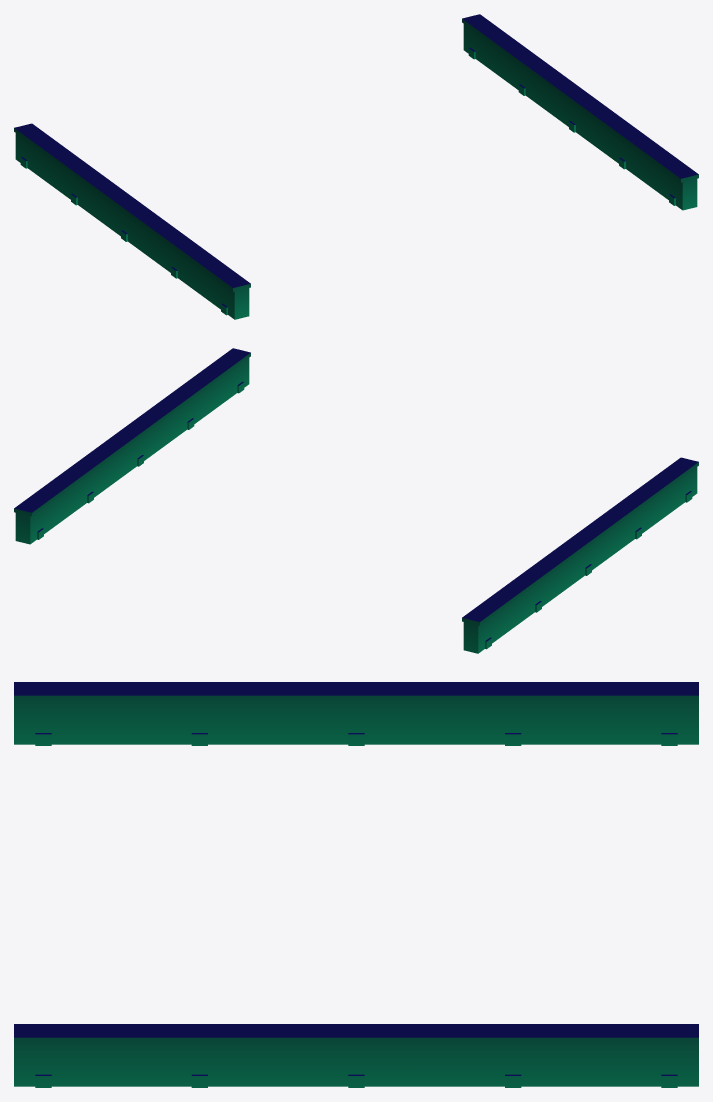
Rendered from bridge_damaged.glb.
3 views of the same model, one above another, from view 1: azimuth 30°, elevation 25°; view 2: azimuth 150°, elevation 25°; view 3: azimuth 270°, elevation 25° (orthographic). The views are drawn at different scales.
Parts seen in each view (by area): view 1: lod0; view 2: lod0; view 3: lod0.
Part boxes in pixels (<box>): lod0: <box>14,14,698,319</box>; lod0: <box>14,348,698,653</box>; lod0: <box>14,682,698,1087</box>.
Size of what is drawn, in the model's own units: 25.8 by 1.7 by 21.
